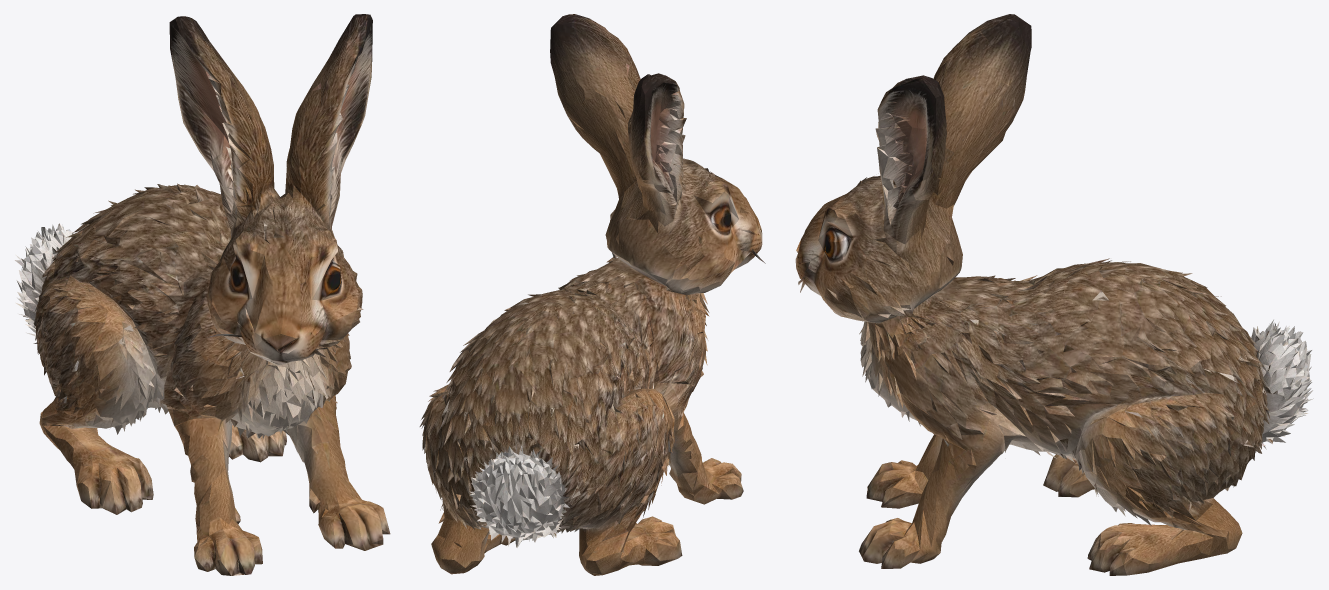
The model's file is tavsan.glb.
3 views of the same model, side by side, from view 1: azimuth 30°, elevation 25°; view 2: azimuth 150°, elevation 25°; view 3: azimuth 270°, elevation 25° (orthographic). The views are drawn at different scales.
Visible parts, largest first — view 1: output_unwrapped; view 2: output_unwrapped; view 3: output_unwrapped.
Boxes of the visible parts, left/top/right/bottom form: output_unwrapped: left=15, top=14, right=390, bottom=575; output_unwrapped: left=419, top=14, right=765, bottom=575; output_unwrapped: left=795, top=14, right=1313, bottom=575.
Size of the model in its own units: 0.9227 by 1.83 by 1.76.
Materials: 1 (1 with a texture image).
